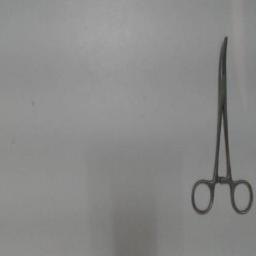Crile Artery Forceps: (188, 30, 254, 222)
